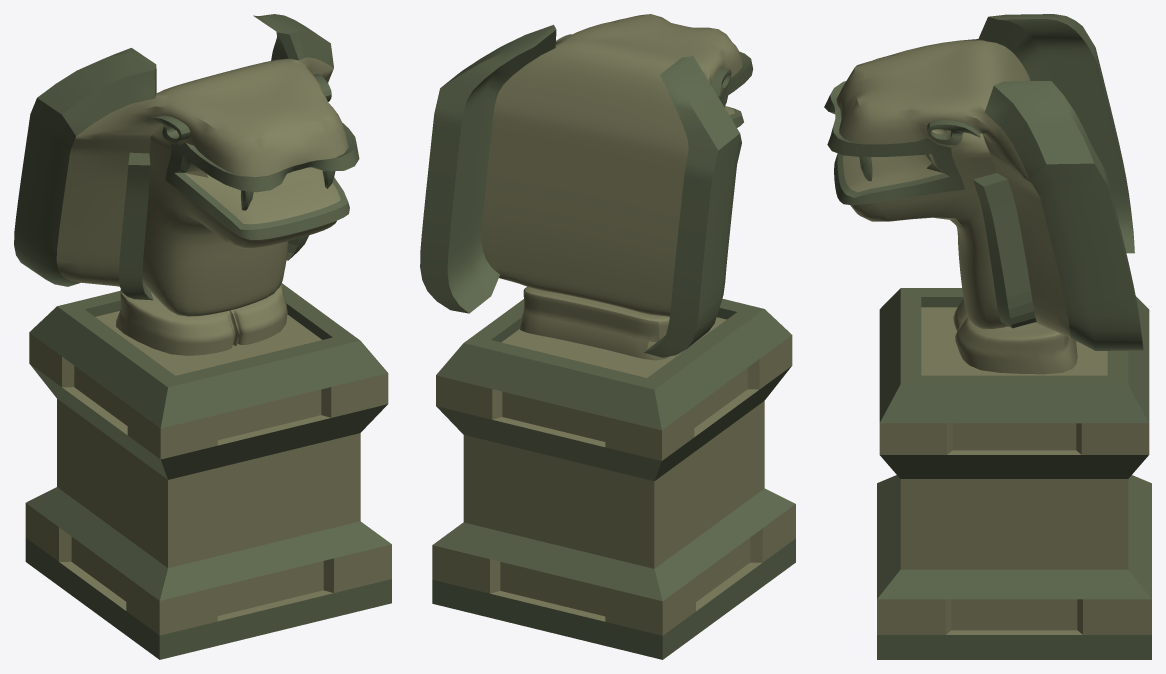
Rendered from statue_snake.fbx.
3 views of the same model, side by side, from view 1: azimuth 30°, elevation 25°; view 2: azimuth 150°, elevation 25°; view 3: azimuth 270°, elevation 25° (orthographic). The views are drawn at different scales.
Parts seen in each view (by area): view 1: statue_snake_pilar, statue_snake_head; view 2: statue_snake_pilar, statue_snake_head; view 3: statue_snake_pilar, statue_snake_head.
Part boxes in pixels (box(x1,y1,x2,y2)): statue_snake_pilar: box(25, 283, 391, 659); statue_snake_head: box(14, 14, 359, 355); statue_snake_pilar: box(432, 298, 795, 659); statue_snake_head: box(420, 14, 752, 360); statue_snake_pilar: box(877, 288, 1151, 659); statue_snake_head: box(824, 14, 1143, 374).
Size of the model in its own units: 2.99 by 5.55 by 2.99.
